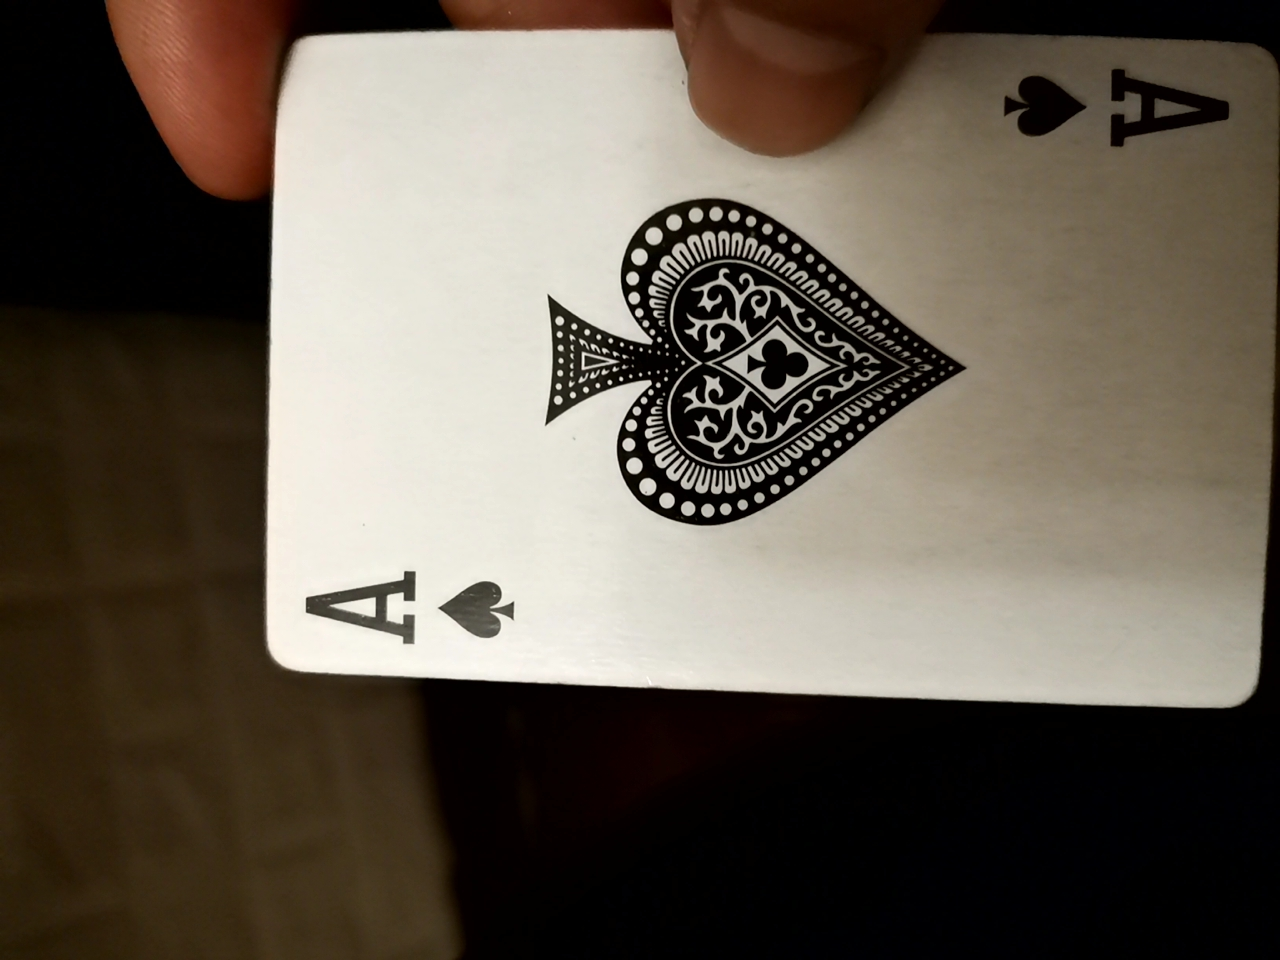ht a: (241, 22, 1272, 731)
